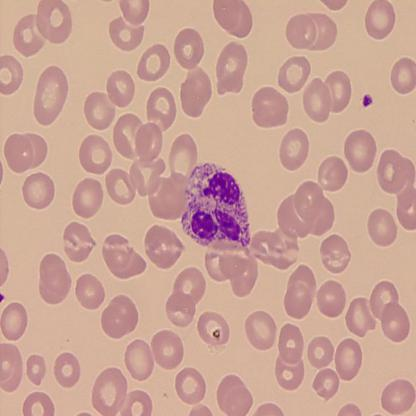Segmented neutrophil: (180, 160, 254, 249)
